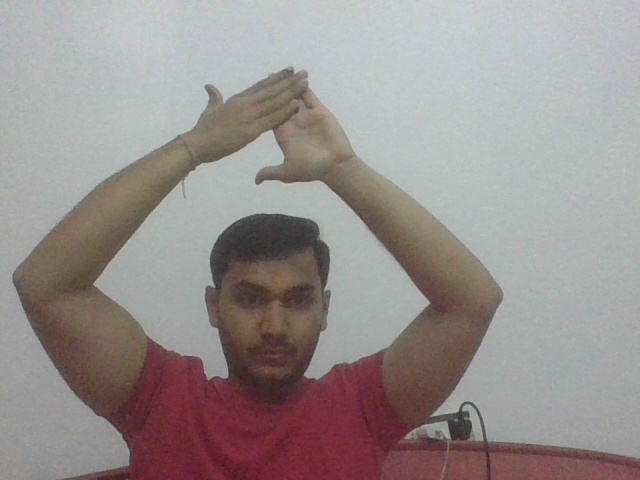H: (198, 66, 358, 190)
